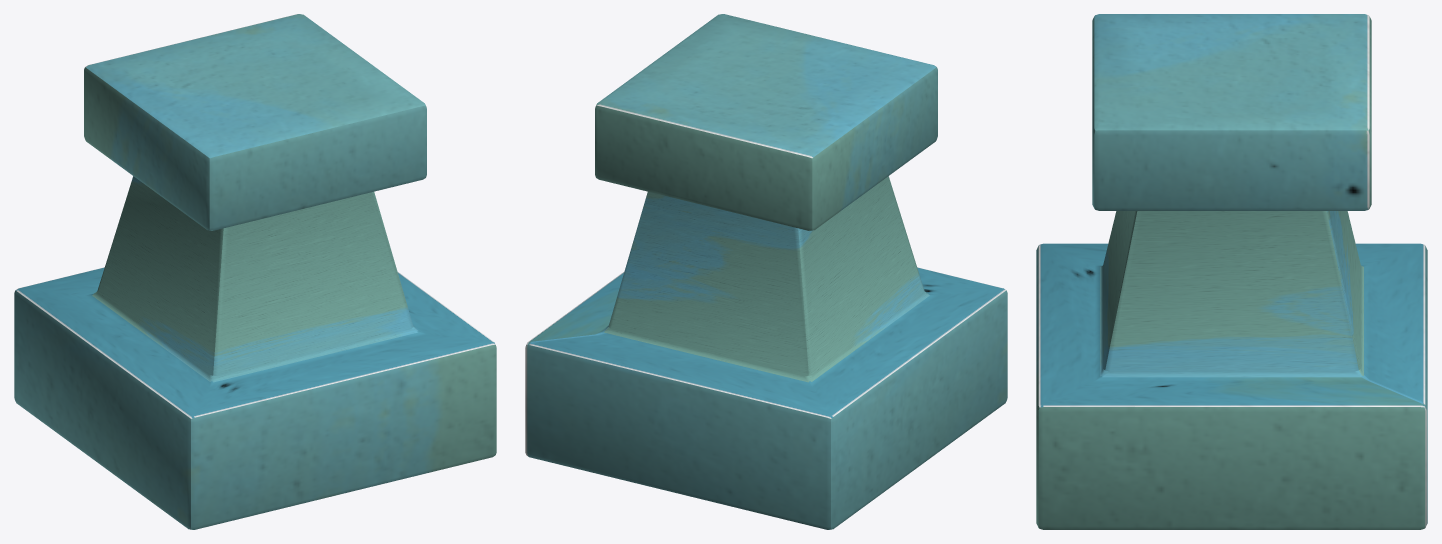
The model's file is TOMB_PEDESTAL.obj.
The picture shows the model from 3 angles, left to right: view 1: azimuth 30°, elevation 25°; view 2: azimuth 150°, elevation 25°; view 3: azimuth 270°, elevation 25°; orthographic projection. The views are drawn at different scales.
Visible parts, largest first — view 1: TOMB_PEDESTAL.001; view 2: TOMB_PEDESTAL.001; view 3: TOMB_PEDESTAL.001.
Part boxes in pixels (box(x1,y1,x2,y2)): TOMB_PEDESTAL.001: box(14, 14, 496, 529); TOMB_PEDESTAL.001: box(525, 14, 1007, 529); TOMB_PEDESTAL.001: box(1036, 14, 1427, 529).
Size of the model in its own units: 0.84 by 0.9 by 0.84.
Materials: 2 (2 with a texture image).
